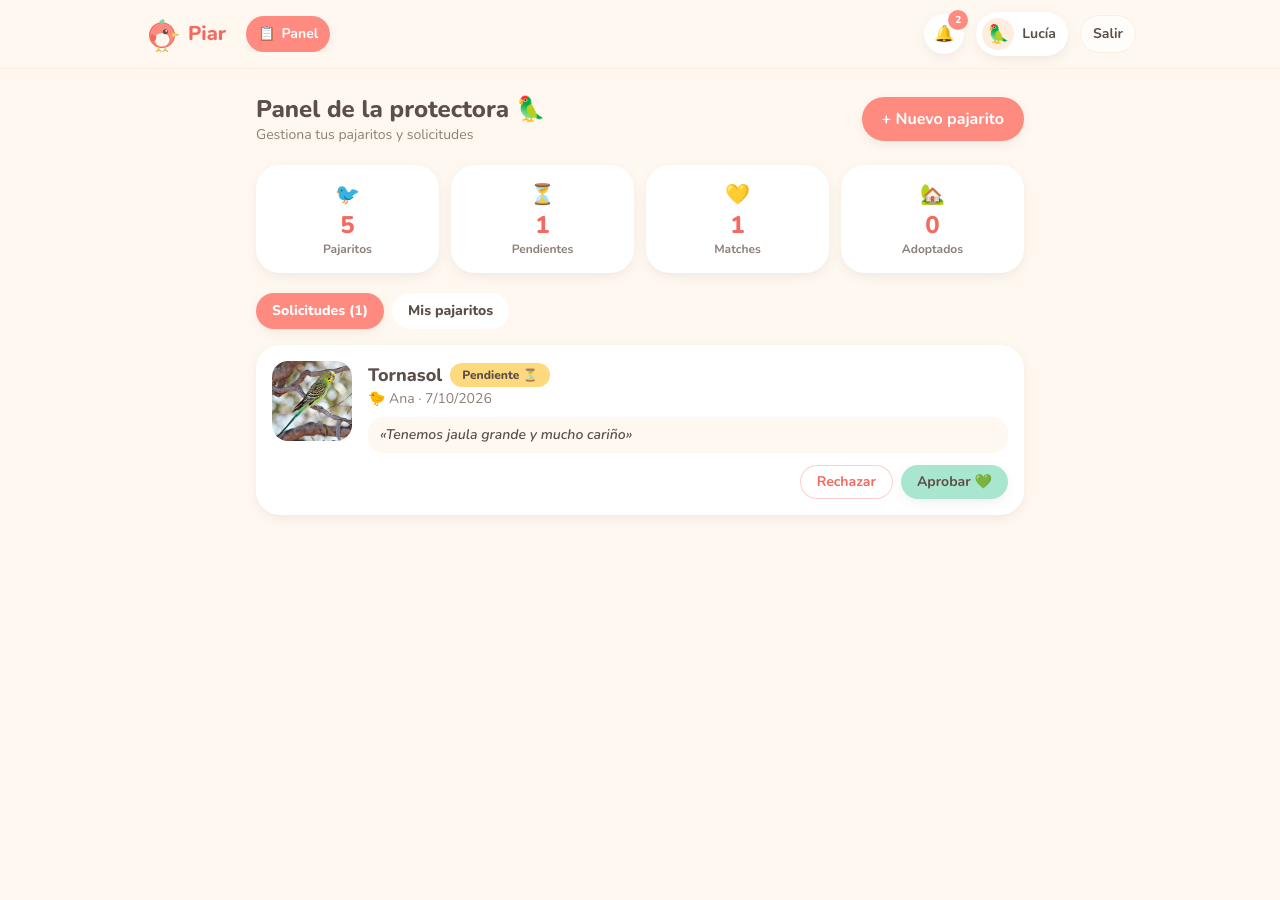
Test case: panel de la protectora › borra un pajarito con confirmación (y se niega si hay solicitudes activas)
Click the button "Mis pajaritos". click: (451, 311)
box: [392,293,509,329]
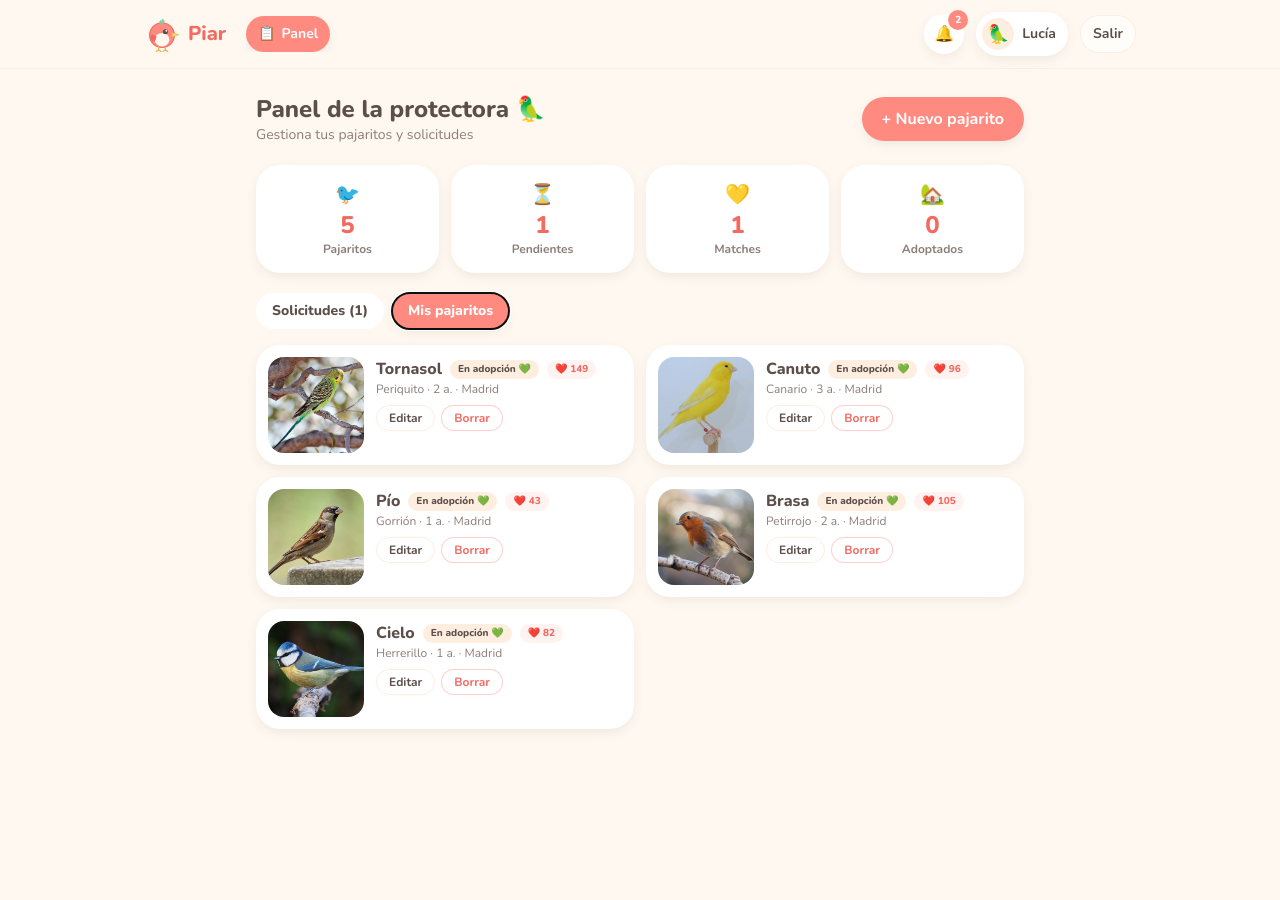
Tornasol tiene solicitud activa: no se puede borrar
Click the button "Borrar" below "Periquito". click: (472, 418)
box: [441,405,503,431]
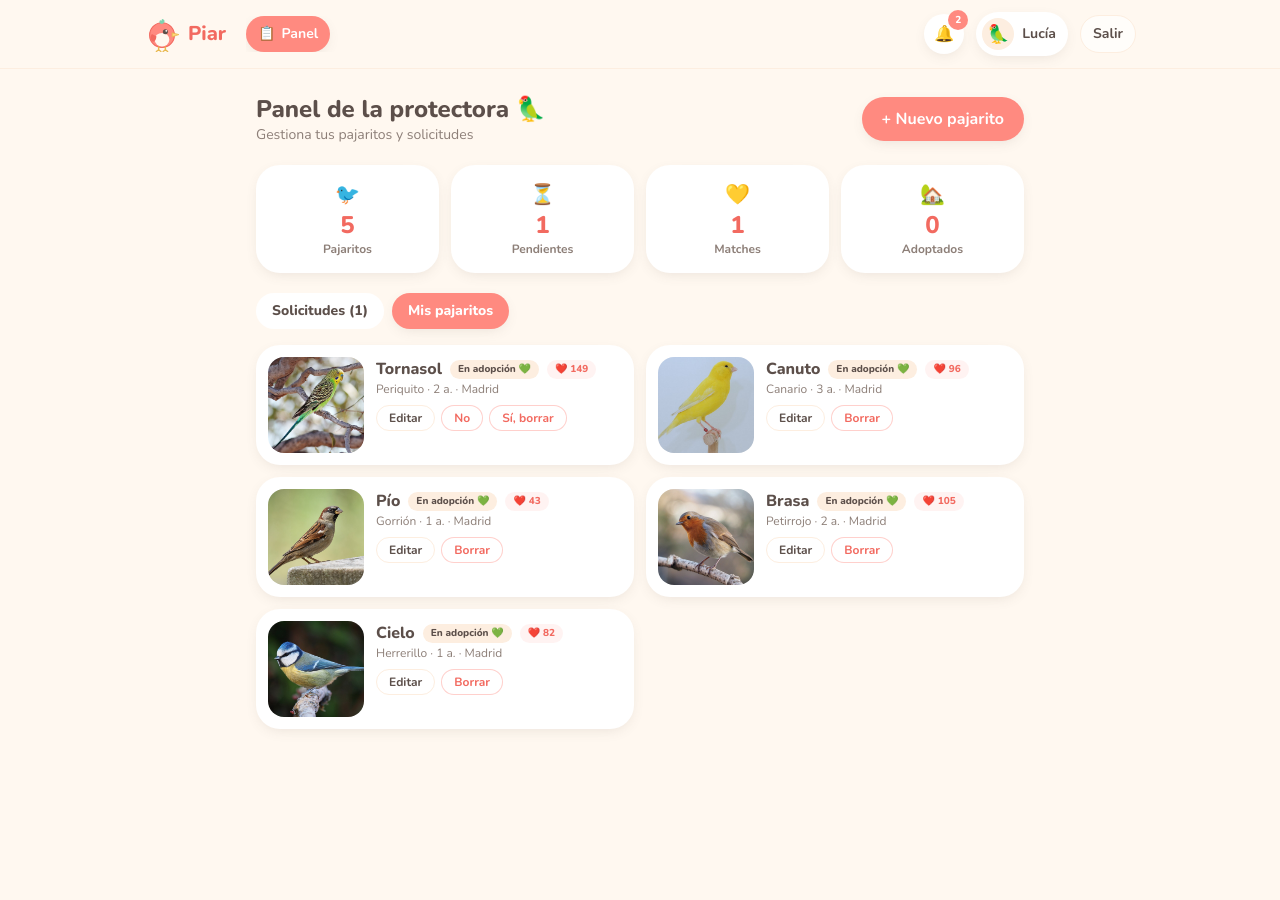
Click the button "Sí, borrar". click: (528, 418)
box: [489,405,567,431]
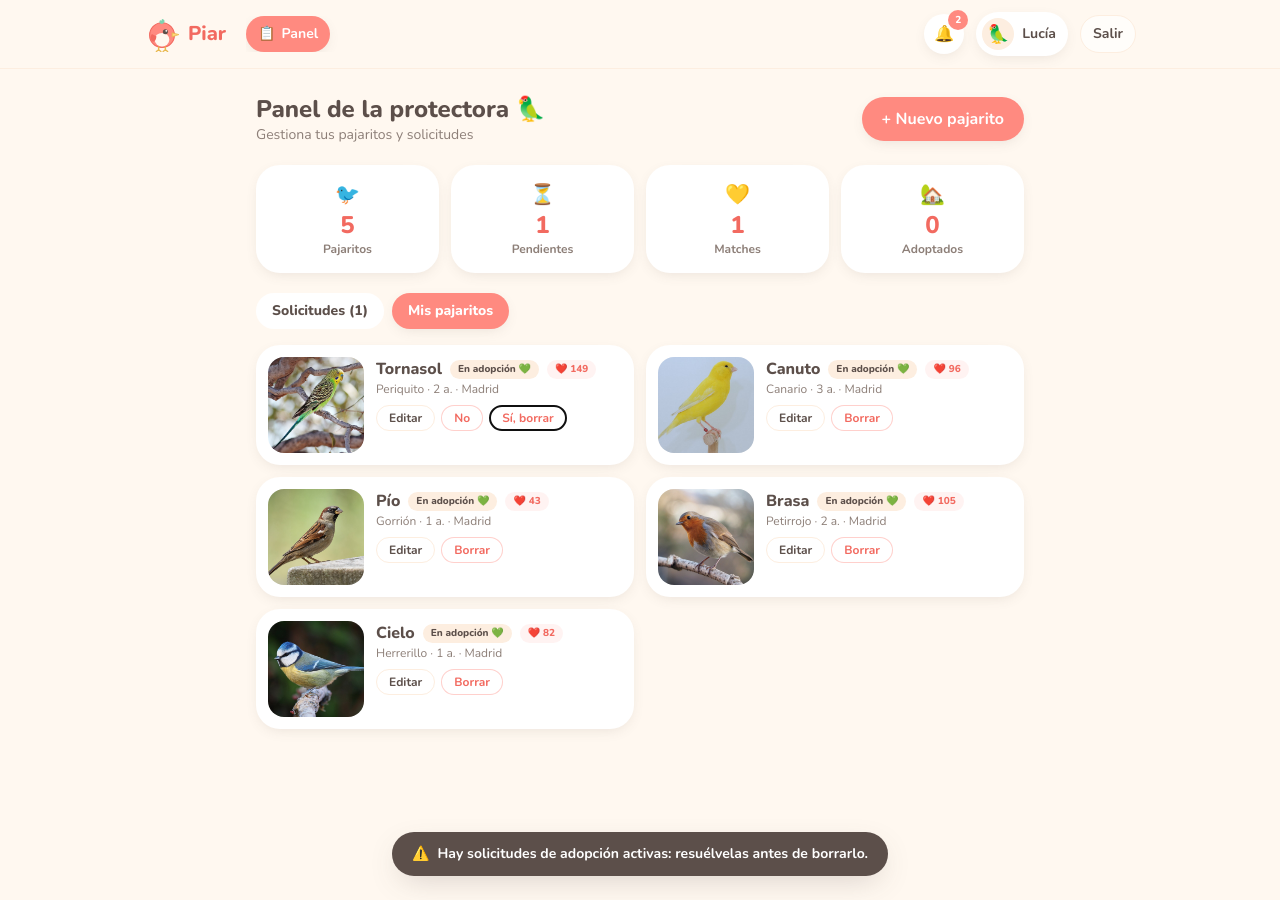
Expected: the heading "Tornasol" is shown, [376,357,442,381]
Now the text "solicitudes de adopción activas" is shown, box [438,844,868,863]
Canuto sí se puede borrar
Click the button "Borrar" below "Canario". click: (862, 418)
box: [831,405,893,431]
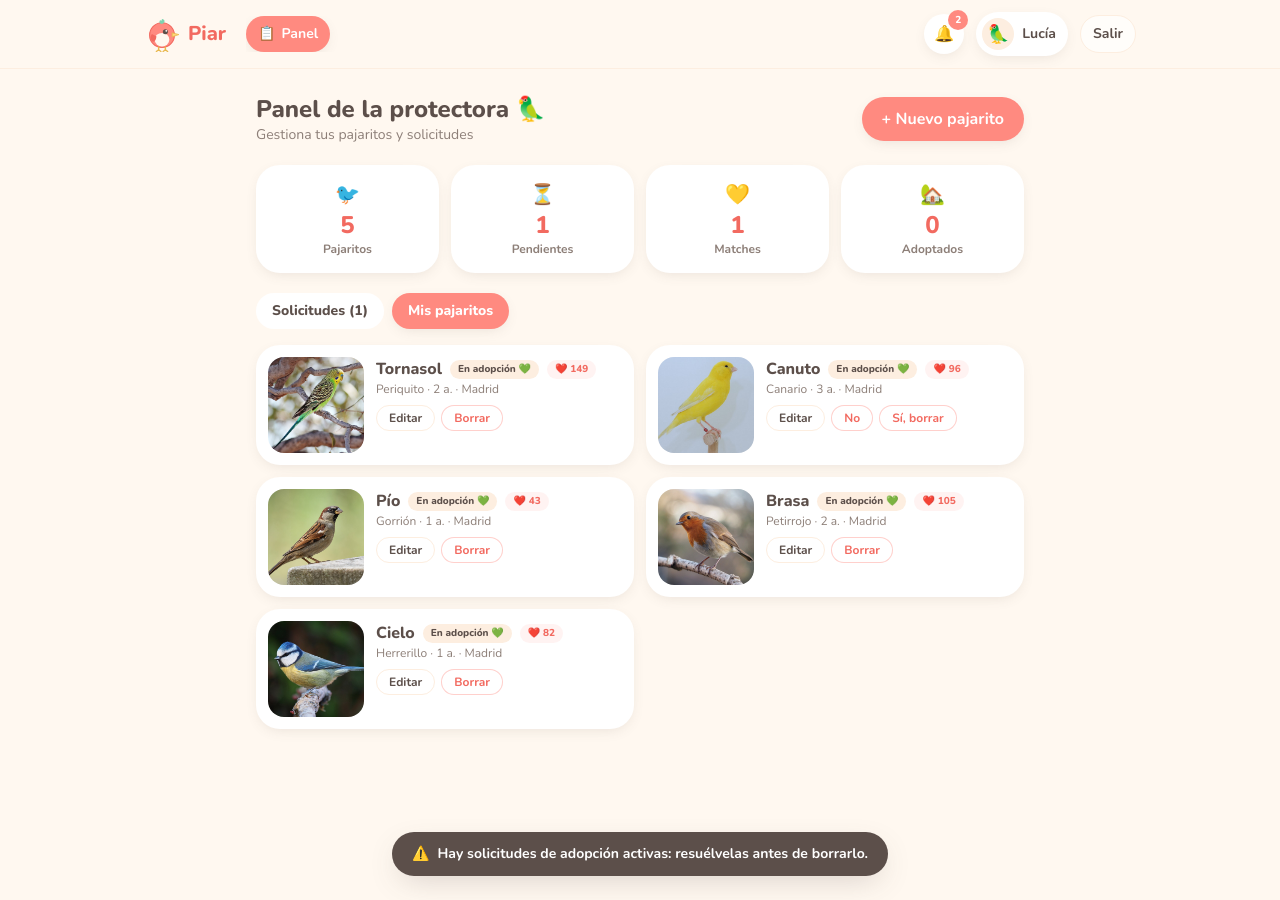
Click the button "Sí, borrar". click: (918, 418)
box: [879,405,957,431]
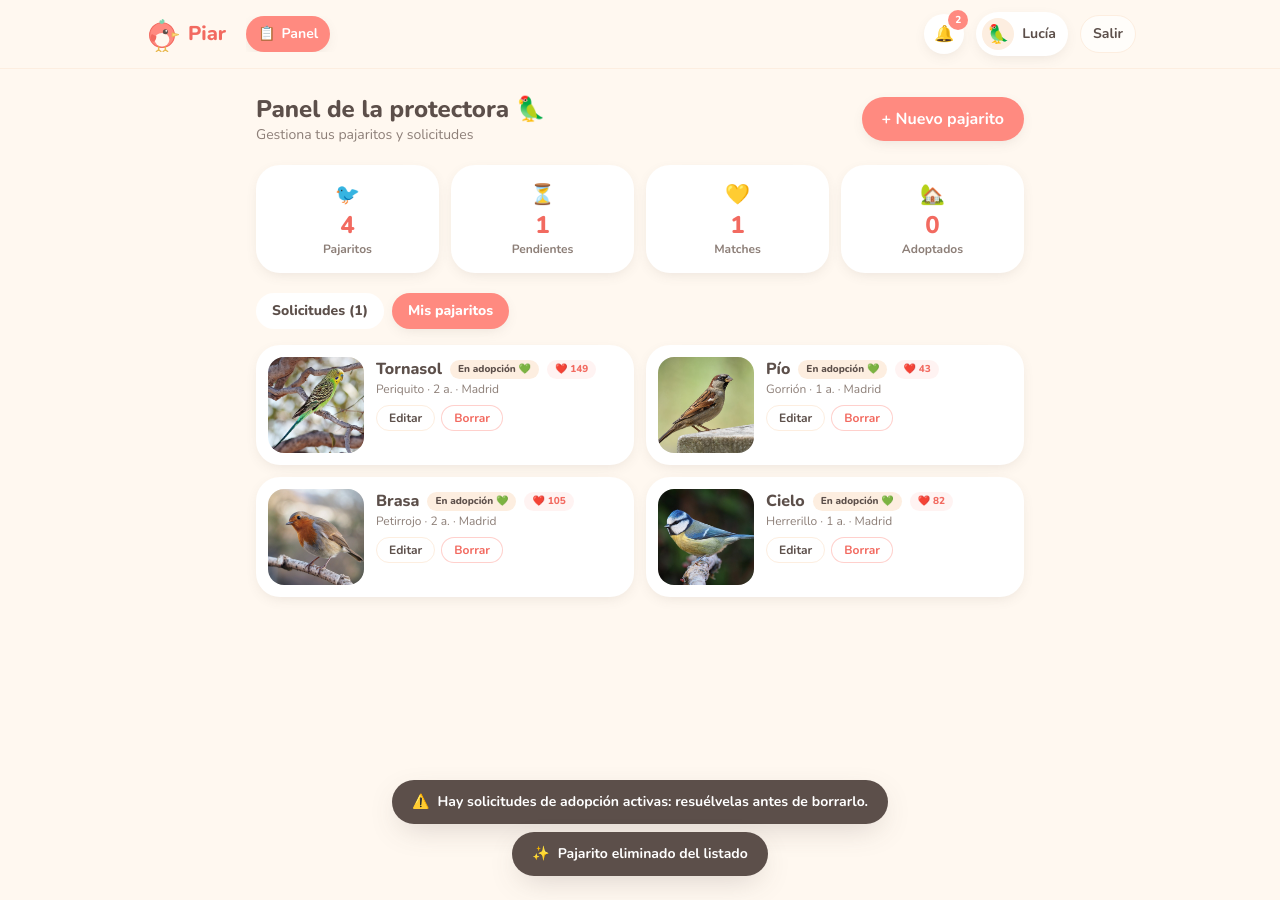
Now the heading "Canuto" is gone
